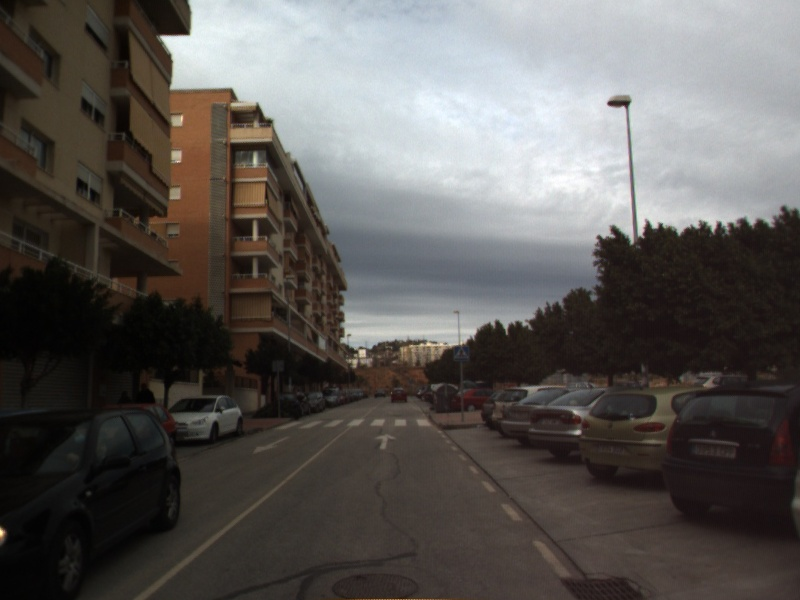STRAIGHT: (373, 432, 399, 451)
